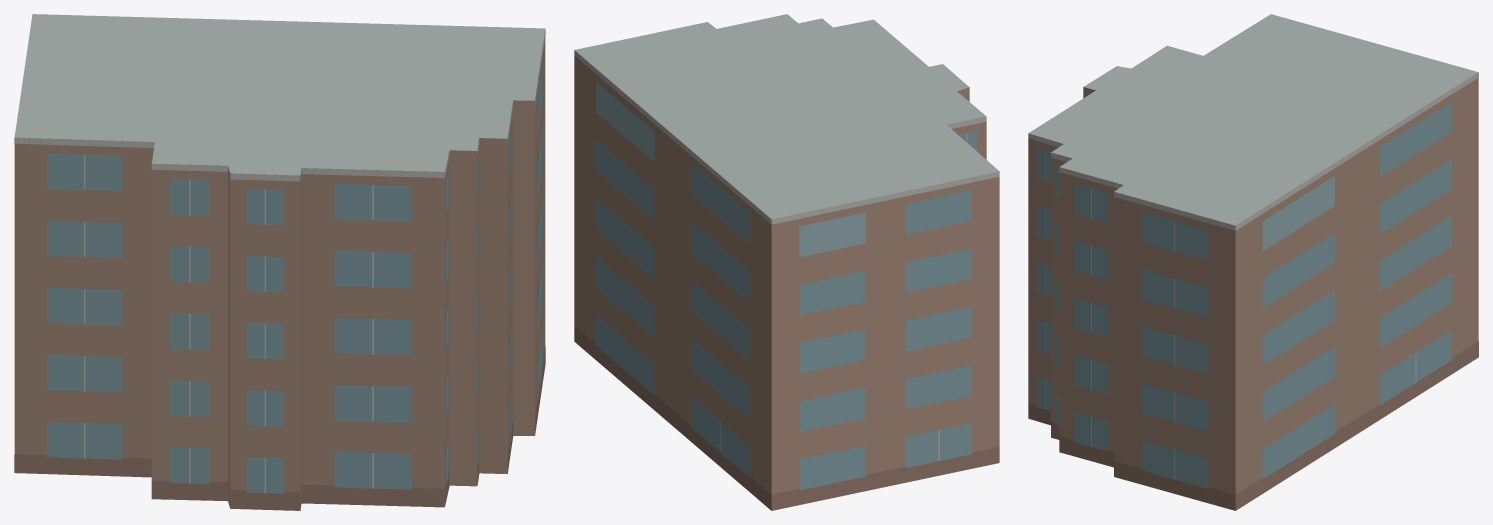
Rendered from survey-upis-32713119.glb.
The picture shows the model from 3 angles, left to right: view 1: azimuth 30°, elevation 25°; view 2: azimuth 150°, elevation 25°; view 3: azimuth 270°, elevation 25°; orthographic projection. The views are drawn at different scales.
Parts seen in each view (by area): view 1: survey-upis-32713119.tmp; view 2: survey-upis-32713119.tmp; view 3: survey-upis-32713119.tmp.
Part boxes in pixels (x1,y1,x2,y2): survey-upis-32713119.tmp: (14,14,545,510); survey-upis-32713119.tmp: (574,14,999,510); survey-upis-32713119.tmp: (1028,14,1478,510).
Bounding box in the file's own units: 21.34 × 13.4 × 19.19.
